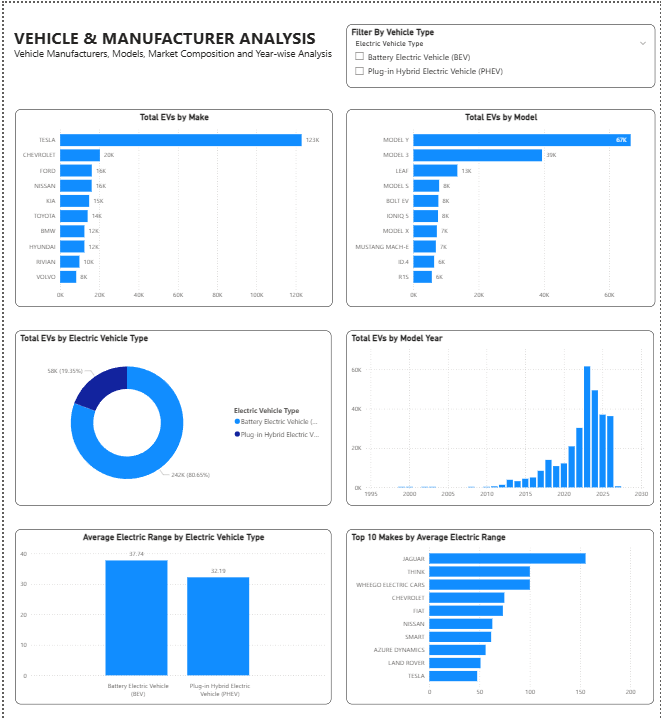

This screenshot's page, from the dashboard's own definition file:
{"tool":"powerbi","page":{"name":"Vehicle and Manufacturer Analysis","canvas":[1280,1400],"ordinal":1},"visuals":[{"type":"textbox","box":[13.7,41.2,641.2,78.4],"z":0},{"type":"textbox","box":[14.6,80.5,639,46.3],"z":1000},{"type":"slicer","title":"Filter By Vehicle Type","fields":{"Values":["export.Electric Vehicle Type"]},"box":[668.3,41.5,602.4,124.4],"z":2000},{"type":"clusteredBarChart","fields":{"Category":["export.Make"],"Y":["export.Total EVs"]},"box":[22,207.3,619.5,385.4],"z":3000},{"type":"clusteredBarChart","fields":{"Category":["export.Model"],"Y":["export.Total EVs"]},"box":[668.3,207.3,602.4,385.4],"z":4000},{"type":"donutChart","fields":{"Category":["export.Electric Vehicle Type"],"Y":["export.Total EVs"]},"box":[22,639,617.1,341.5],"z":5000},{"type":"clusteredColumnChart","fields":{"Category":["export.Model Year"],"Y":["export.Total EVs"]},"box":[668.3,639,600,341.5],"z":6000},{"type":"clusteredColumnChart","fields":{"Category":["export.Electric Vehicle Type"],"Y":["export.Average Electric Range"]},"box":[22,1026.8,617.1,341.5],"z":7000},{"type":"clusteredBarChart","title":"Top 10 Makes by Average Electric Range","fields":{"Category":["export.Make"],"Y":["export.Average Electric Range"]},"box":[668.3,1026.8,600,341.5],"z":8000}]}

Visuals, with their boxes in screenshot pixels (x1, y1, x2, y2), scaled from the page's 1280x1400 canvas onto the 661x720 screenshot:
textbox: x1=7, y1=21, x2=338, y2=62
textbox: x1=8, y1=41, x2=338, y2=65
"Filter By Vehicle Type" slicer: x1=345, y1=21, x2=656, y2=85
clusteredBarChart - export.Make x export.Total EVs: x1=11, y1=107, x2=331, y2=305
clusteredBarChart - export.Model x export.Total EVs: x1=345, y1=107, x2=656, y2=305
donutChart - export.Electric Vehicle Type x export.Total EVs: x1=11, y1=329, x2=330, y2=504
clusteredColumnChart - export.Model Year x export.Total EVs: x1=345, y1=329, x2=655, y2=504
clusteredColumnChart - export.Electric Vehicle Type x export.Average Electric Range: x1=11, y1=528, x2=330, y2=704
"Top 10 Makes by Average Electric Range" clusteredBarChart: x1=345, y1=528, x2=655, y2=704
